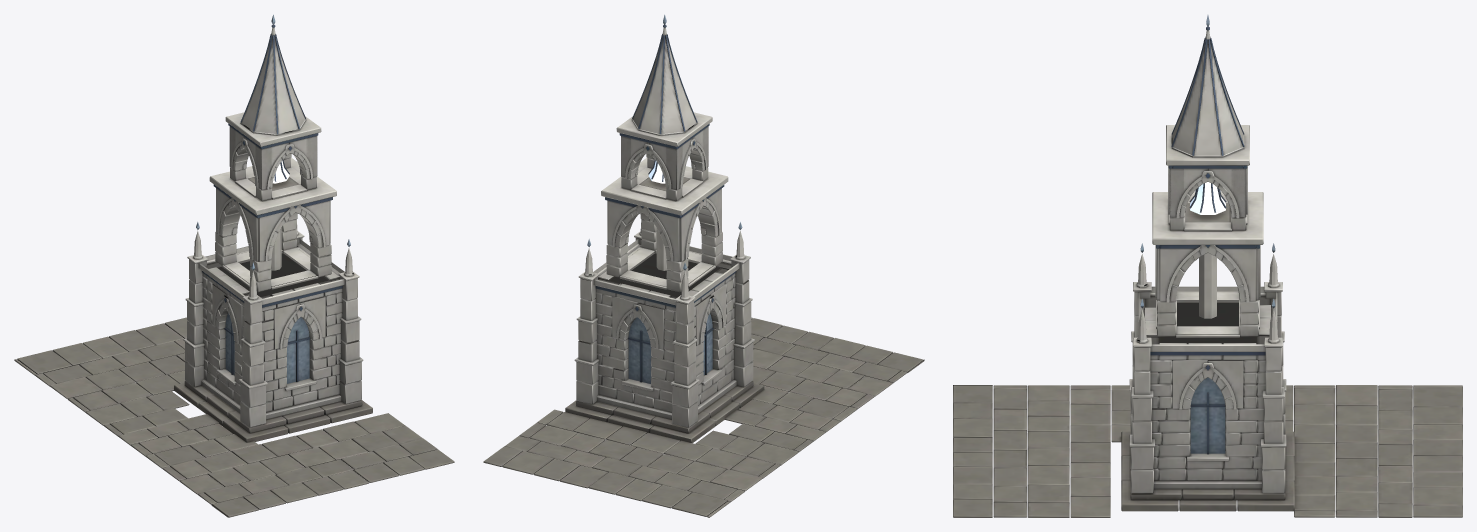
The model's file is glass_belfry.glb.
3 renders of one model, left to right at view 1: azimuth 30°, elevation 25°; view 2: azimuth 150°, elevation 25°; view 3: azimuth 270°, elevation 25°, orthographic. The views are drawn at different scales.
Parts seen in each view (by area): view 1: glass_belfry_body; view 2: glass_belfry_body; view 3: glass_belfry_body, glass_belfry_lantern.
Boxes of the visible parts, left/top/right/bottom form: glass_belfry_body: left=14, top=14, right=454, bottom=517; glass_belfry_body: left=483, top=14, right=924, bottom=517; glass_belfry_body: left=953, top=15, right=1462, bottom=517; glass_belfry_lantern: left=1190, top=182, right=1225, bottom=214.
Bounding box in the file's own units: 13.39 × 21.93 × 21.97.
2 materials, 1 textured.
